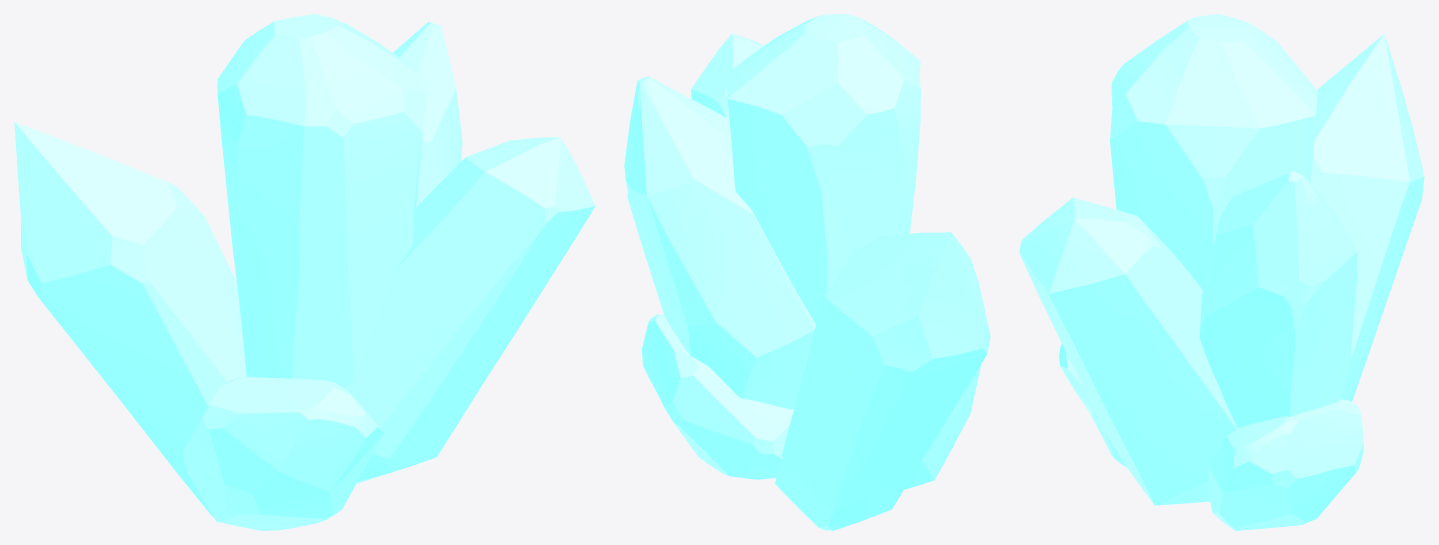
The model's file is Crystal2.FBX.
3 renders of one model, left to right at view 1: azimuth 30°, elevation 25°; view 2: azimuth 150°, elevation 25°; view 3: azimuth 270°, elevation 25°, orthographic. The views are drawn at different scales.
Visible parts, largest first — view 1: Cristalli_2; view 2: Cristalli_2; view 3: Cristalli_2.
Part boxes in pixels (x1=…): Cristalli_2: x1=14, y1=14, x2=595, y2=530; Cristalli_2: x1=624, y1=14, x2=990, y2=530; Cristalli_2: x1=1019, y1=14, x2=1424, y2=530.
Bounding box in the file's own units: 10.43 × 11.74 × 8.69.
1 material, 1 textured.
